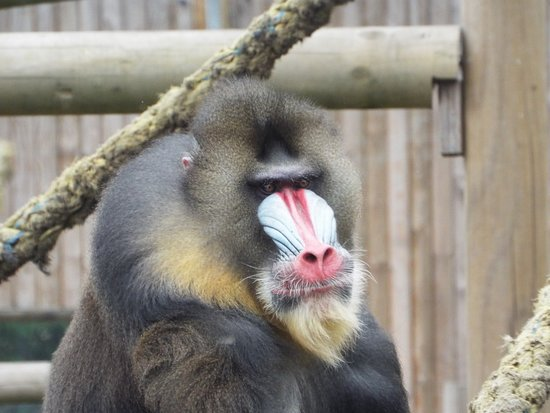Mandrill: (29, 91, 400, 399)
